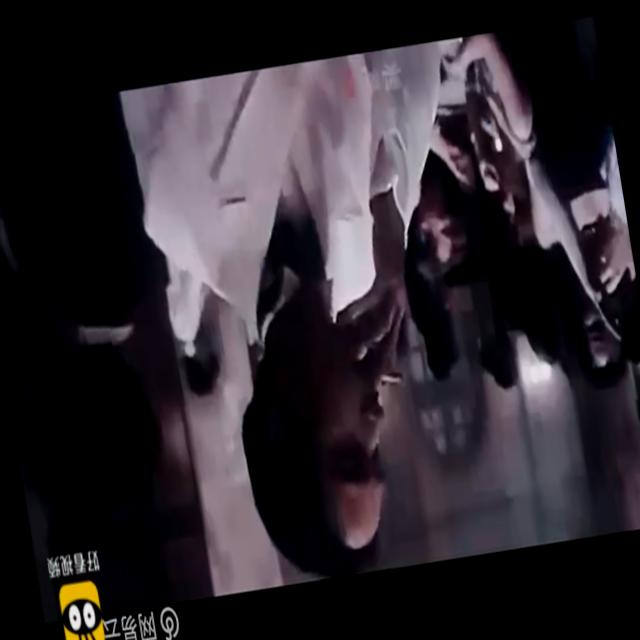smoke: (377, 362, 404, 388)
